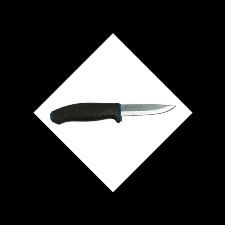k1: (106, 103, 177, 122)
